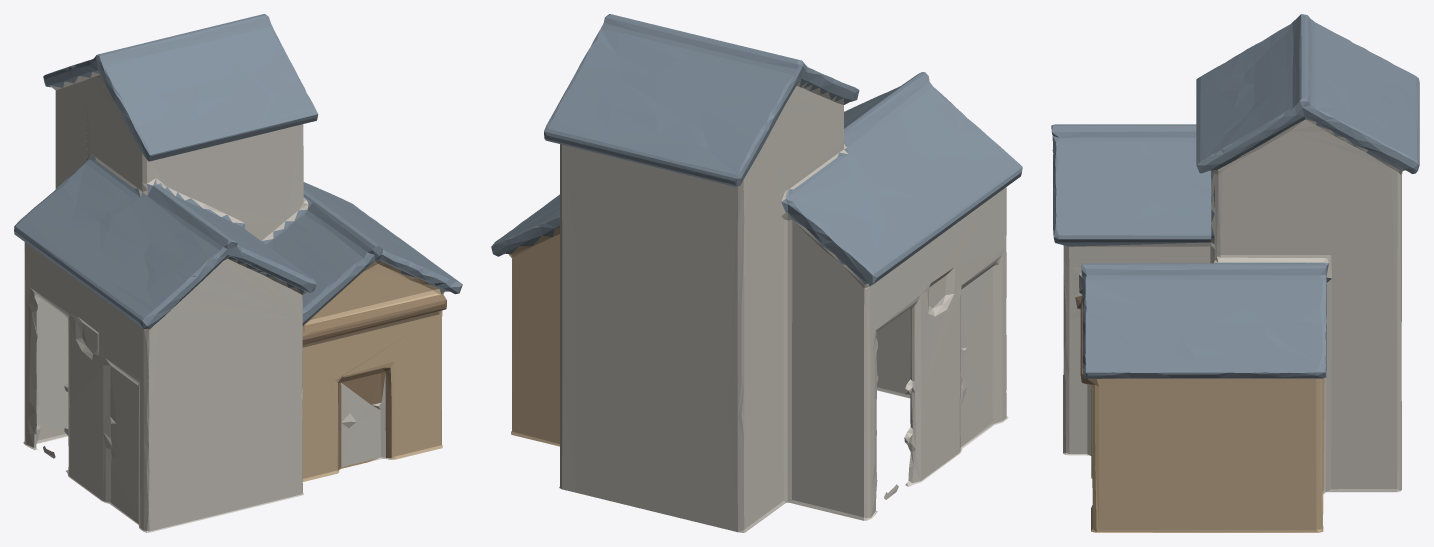
3 renders of one model, left to right at view 1: azimuth 30°, elevation 25°; view 2: azimuth 150°, elevation 25°; view 3: azimuth 270°, elevation 25°, orthographic. The views are drawn at different scales.
Parts seen in each view (by area): view 1: geometry_0; view 2: geometry_0; view 3: geometry_0.
Boxes of the visible parts, x1=… form: geometry_0: x1=14, y1=14, x2=462, y2=532; geometry_0: x1=491, y1=14, x2=1022, y2=532; geometry_0: x1=1051, y1=14, x2=1419, y2=532.
Bounding box in the file's own units: 0.8803 × 0.9451 × 0.8.
